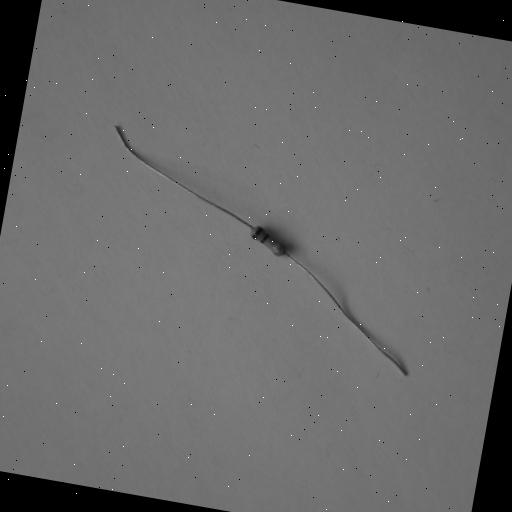RESISTOR: (189, 170, 324, 321)
